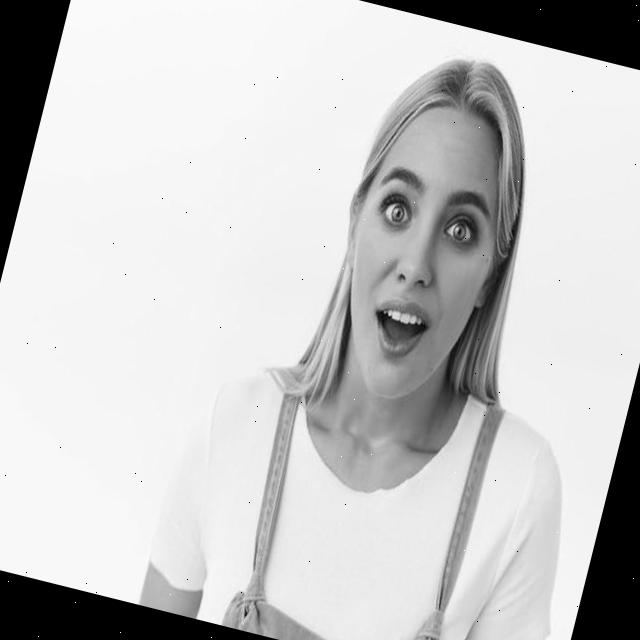Surprised: (317, 94, 525, 416)
